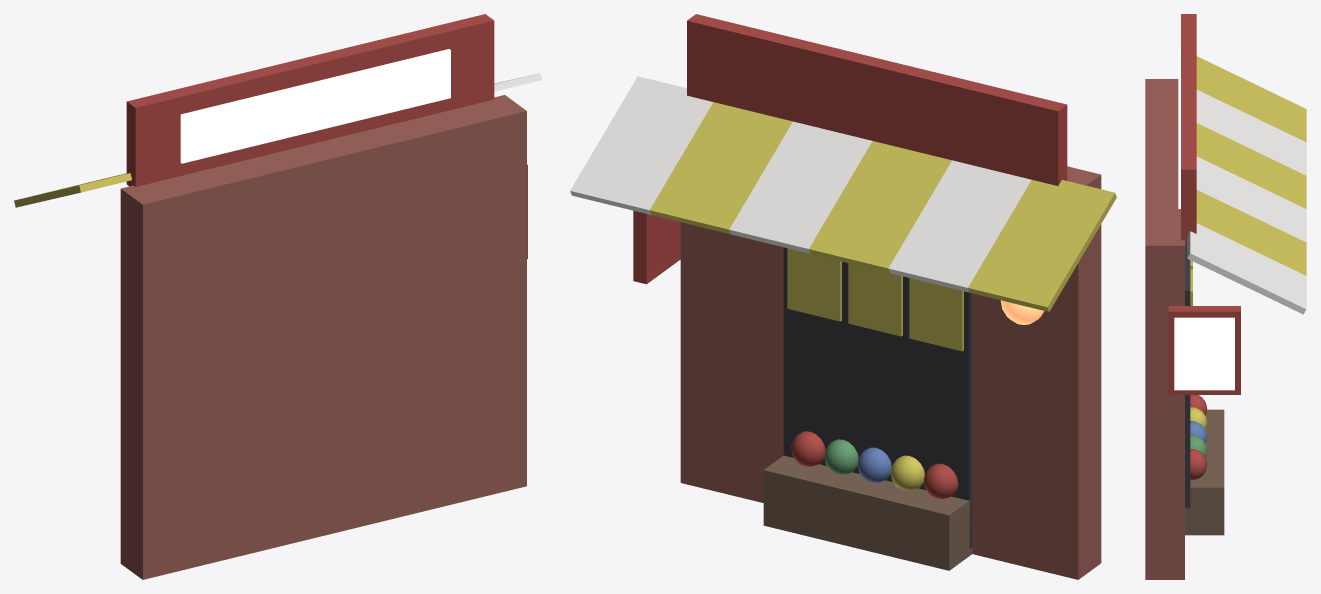
File: prop_mise_omocha.glb
The picture shows the model from 3 angles, left to right: view 1: azimuth 30°, elevation 25°; view 2: azimuth 150°, elevation 25°; view 3: azimuth 270°, elevation 25°; orthographic projection. The views are drawn at different scales.
Parts seen in each view (by area): view 1: mise_omocha; view 2: mise_omocha; view 3: mise_omocha.
Part boxes in pixels (box(x1,y1,x2,y2)): mise_omocha: box(14, 14, 541, 579); mise_omocha: box(570, 14, 1116, 579); mise_omocha: box(1145, 14, 1306, 579).
Size of the model in its own units: 3.6 by 3.39 by 1.22.
